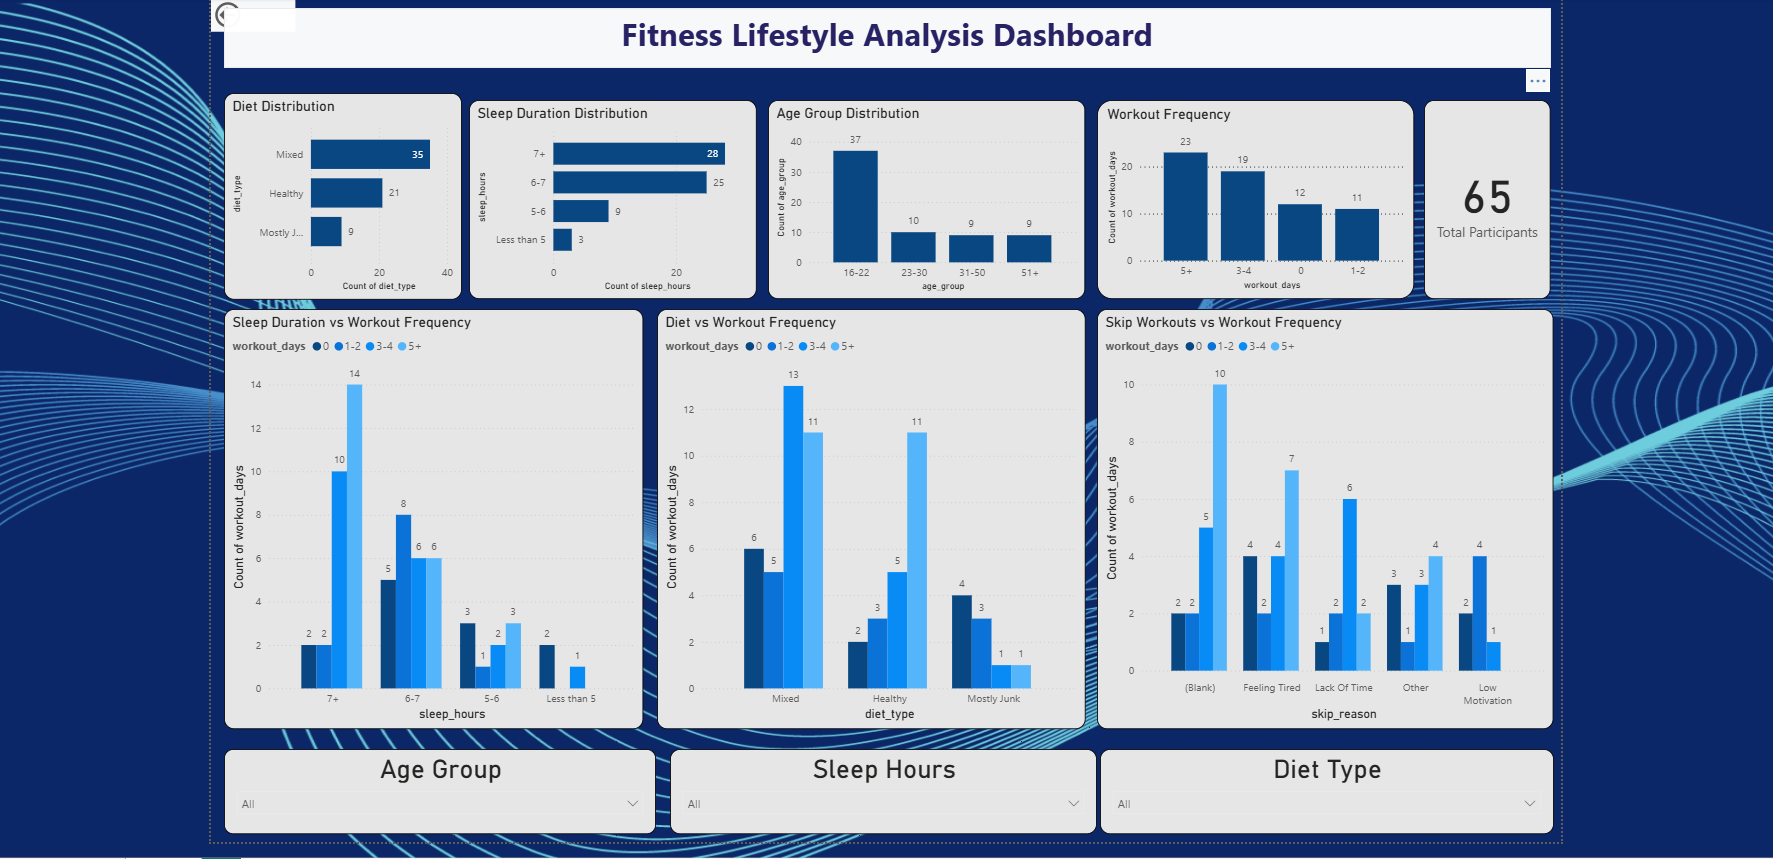

The dashboard page shown, as its layout file describes it:
{"tool":"powerbi","page":{"name":"Page 1","canvas":[1600,1000],"ordinal":0},"visuals":[{"type":"clusteredColumnChart","title":"Workout Frequency","fields":{"Category":["fitness_data.workout_days"],"Y":["CountNonNull(fitness_data.workout_days)"]},"box":[1050,121.2,375.6,236.4],"z":0},{"type":"actionButton","box":[0,0,100,40],"z":1000},{"type":"card","fields":{"Values":["fitness_data.Total Participants"]},"box":[1437.6,121.2,150,236.4],"z":2000},{"type":"clusteredBarChart","title":"Sleep Duration Distribution","fields":{"Category":["fitness_data.sleep_hours"],"Y":["CountNonNull(fitness_data.sleep_hours)"]},"box":[306,121.2,340.8,236.4],"z":3000},{"type":"clusteredBarChart","title":"Diet Distribution","fields":{"Y":["CountNonNull(fitness_data.diet_type)"],"Category":["fitness_data.diet_type"]},"box":[15.6,112.8,282,244.8],"z":4000},{"type":"columnChart","title":"Age Group Distribution","fields":{"Category":["fitness_data.age_group"],"Y":["CountNonNull(fitness_data.age_group)"]},"box":[660,121.2,375.6,236.4],"z":5000},{"type":"clusteredColumnChart","title":"Sleep Duration vs Workout Frequency","fields":{"Category":["fitness_data.sleep_hours"],"Y":["CountNonNull(fitness_data.workout_days)"],"Series":["fitness_data.workout_days"]},"box":[15.6,368.4,496.8,498],"z":6000},{"type":"clusteredColumnChart","title":"Diet vs Workout Frequency","fields":{"Category":["fitness_data.diet_type"],"Y":["CountNonNull(fitness_data.workout_days)"],"Series":["fitness_data.workout_days"]},"box":[528,368.4,507.6,498],"z":7000},{"type":"clusteredColumnChart","title":"Skip Workouts vs Workout Frequency","fields":{"Category":["fitness_data.skip_reason"],"Series":["fitness_data.workout_days"],"Y":["CountNonNull(fitness_data.workout_days)"]},"box":[1050,368.4,541.2,498],"z":8000},{"type":"slicer","title":"Sleep Hours","fields":{"Values":["fitness_data.sleep_hours"]},"box":[543.6,890.4,506.4,100.8],"z":9000},{"type":"slicer","title":"Age Group","fields":{"Values":["fitness_data.age_group"]},"box":[15.6,890.4,512.4,100.8],"z":10000},{"type":"slicer","title":"Diet Type","fields":{"Values":["fitness_data.diet_type"]},"box":[1053.6,890.4,537.6,100.8],"z":11000},{"type":"textbox","box":[15.6,12,1572,70.8],"z":12000}]}

Visuals, with their boxes in screenshot pixels (x1, y1, x2, y2):
"Workout Frequency" clusteredColumnChart: <bbox>1092, 93, 1411, 294</bbox>
actionButton: <bbox>203, 0, 288, 25</bbox>
card - fitness_data.Total Participants: <bbox>1421, 93, 1548, 294</bbox>
"Sleep Duration Distribution" clusteredBarChart: <bbox>462, 93, 751, 294</bbox>
"Diet Distribution" clusteredBarChart: <bbox>216, 86, 455, 294</bbox>
"Age Group Distribution" columnChart: <bbox>762, 93, 1080, 294</bbox>
"Sleep Duration vs Workout Frequency" clusteredColumnChart: <bbox>216, 303, 637, 725</bbox>
"Diet vs Workout Frequency" clusteredColumnChart: <bbox>650, 303, 1080, 725</bbox>
"Skip Workouts vs Workout Frequency" clusteredColumnChart: <bbox>1092, 303, 1551, 725</bbox>
"Sleep Hours" slicer: <bbox>664, 745, 1092, 830</bbox>
"Age Group" slicer: <bbox>216, 745, 650, 830</bbox>
"Diet Type" slicer: <bbox>1095, 745, 1551, 830</bbox>
textbox: <bbox>216, 1, 1548, 61</bbox>
